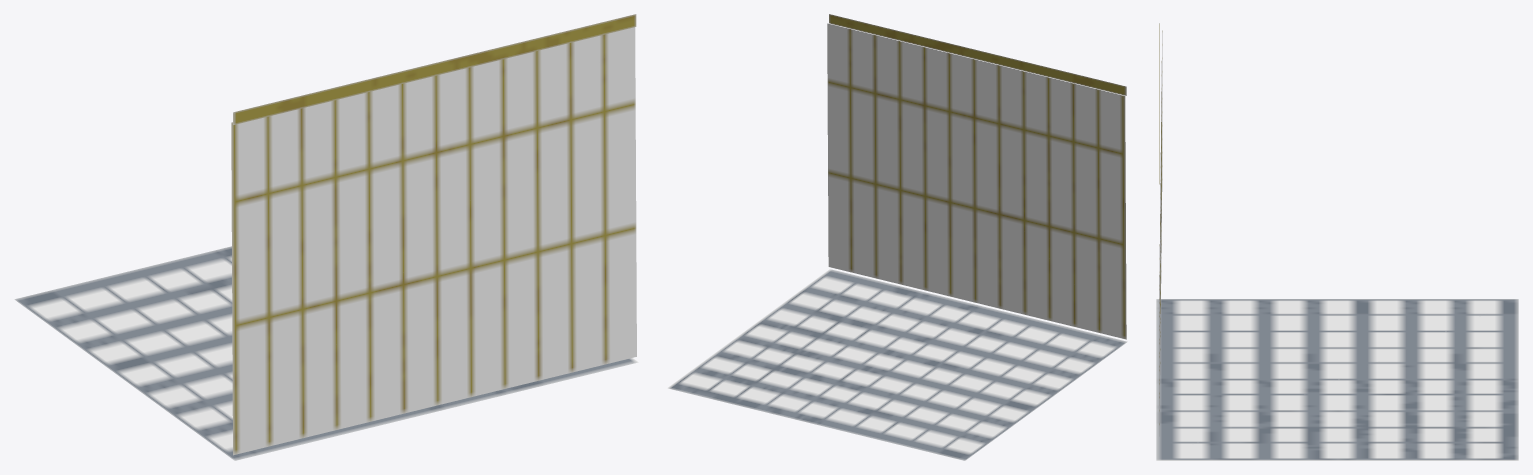
The model's file is weilan2.fbx.
The picture shows the model from 3 angles, left to right: view 1: azimuth 30°, elevation 25°; view 2: azimuth 150°, elevation 25°; view 3: azimuth 270°, elevation 25°; orthographic projection. The views are drawn at different scales.
Visible parts, largest first — view 1: 平面.079; view 2: 平面.079; view 3: 平面.079.
Part boxes in pixels (box(x1,y1,x2,y2)): 平面.079: box(14, 14, 638, 460); 平面.079: box(667, 14, 1127, 460); 平面.079: box(1156, 23, 1518, 460).
Size of the model in its own units: 270 by 222 by 256.
